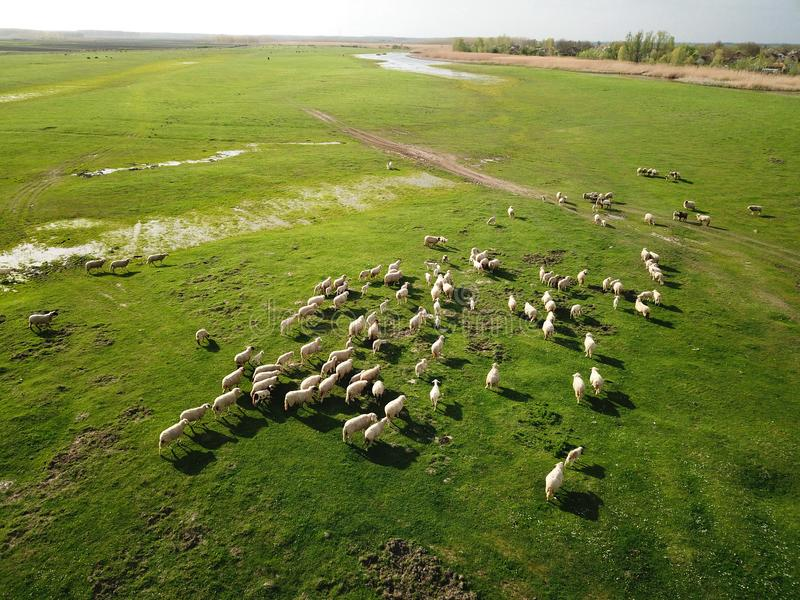sheep: (542, 462, 566, 503), (344, 412, 376, 441), (586, 364, 608, 399), (214, 390, 245, 412), (297, 337, 325, 360), (161, 419, 187, 443), (284, 387, 315, 406), (365, 416, 388, 441), (581, 331, 601, 359), (384, 393, 407, 417), (183, 404, 212, 422), (566, 444, 588, 467), (483, 363, 500, 392), (223, 366, 244, 389), (255, 376, 280, 395), (235, 345, 256, 367), (330, 345, 355, 363), (572, 373, 586, 405), (428, 379, 441, 413), (346, 379, 365, 400), (359, 364, 381, 382), (282, 314, 302, 333), (299, 302, 319, 321), (254, 388, 273, 408), (520, 301, 538, 322), (320, 374, 338, 395), (573, 265, 590, 287), (85, 259, 107, 276), (430, 334, 446, 357), (147, 252, 170, 268), (254, 362, 282, 375), (107, 259, 133, 273), (254, 369, 281, 382), (540, 318, 554, 343), (338, 359, 354, 380), (635, 299, 652, 318), (638, 246, 655, 265), (695, 211, 713, 228), (320, 357, 338, 374), (303, 372, 320, 390), (413, 358, 429, 377), (371, 379, 385, 400), (556, 276, 573, 293), (383, 271, 402, 286), (650, 271, 665, 288), (408, 311, 423, 328), (567, 303, 584, 317), (650, 289, 663, 307), (507, 294, 518, 315), (433, 277, 443, 300), (394, 289, 409, 304), (309, 293, 324, 308), (196, 327, 211, 342), (748, 203, 764, 217), (333, 293, 350, 306), (423, 236, 442, 247), (370, 264, 382, 281), (648, 260, 662, 274), (357, 269, 372, 282), (592, 213, 608, 225), (387, 260, 403, 272), (646, 250, 659, 264), (644, 213, 657, 227), (480, 250, 493, 264), (333, 275, 347, 288), (535, 265, 547, 280), (424, 261, 442, 271), (540, 290, 553, 303), (379, 301, 392, 314), (545, 298, 557, 312), (279, 351, 293, 363), (547, 275, 560, 287), (506, 205, 518, 218), (484, 213, 496, 226), (444, 270, 455, 284), (444, 281, 453, 298), (614, 294, 622, 312), (600, 200, 616, 209), (320, 276, 332, 288), (542, 272, 555, 283), (682, 199, 695, 210), (488, 260, 502, 270), (425, 271, 435, 285), (433, 299, 442, 314), (612, 280, 623, 292), (678, 211, 690, 222), (602, 277, 612, 290), (477, 258, 490, 268), (338, 282, 348, 295), (257, 351, 266, 365), (582, 192, 597, 200), (467, 247, 477, 259), (638, 289, 651, 298), (362, 282, 370, 296), (420, 308, 430, 319), (433, 315, 440, 329), (604, 192, 616, 200), (401, 281, 409, 293), (470, 298, 477, 311), (557, 197, 568, 205), (314, 283, 322, 294), (672, 173, 682, 181), (644, 167, 652, 177), (539, 195, 547, 202), (650, 168, 657, 176), (639, 167, 647, 174), (443, 253, 448, 261), (556, 193, 563, 198)
